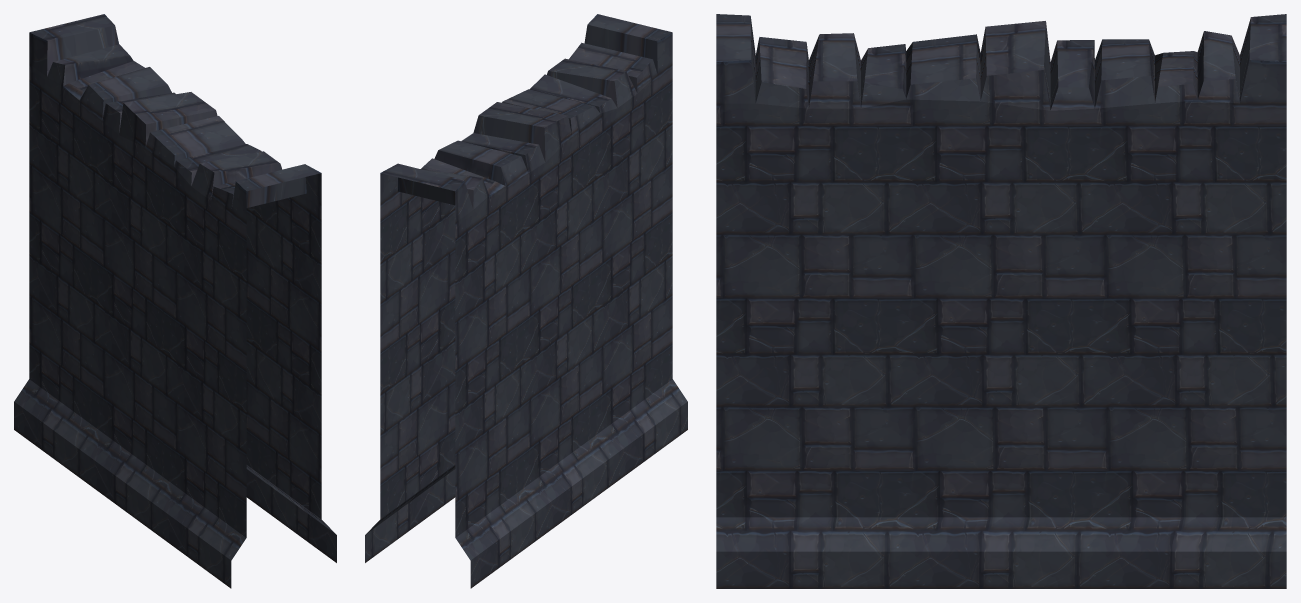
The model's file is Ruins_Wall_002.fbx.
The picture shows the model from 3 angles, left to right: view 1: azimuth 30°, elevation 25°; view 2: azimuth 150°, elevation 25°; view 3: azimuth 270°, elevation 25°; orthographic projection. The views are drawn at different scales.
Parts seen in each view (by area): view 1: Ruins_Wall_002; view 2: Ruins_Wall_002; view 3: Ruins_Wall_002.
Boxes of the visible parts, x1,y1,x2,y2 form: Ruins_Wall_002: [14, 14, 336, 588]; Ruins_Wall_002: [365, 14, 687, 588]; Ruins_Wall_002: [716, 14, 1286, 588].
Bounding box in the file's own units: 1.4 × 5 × 5.
1 material, 1 textured.
